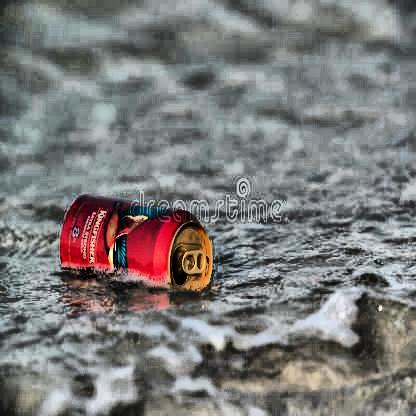Metal wastes: (57, 189, 214, 294)
